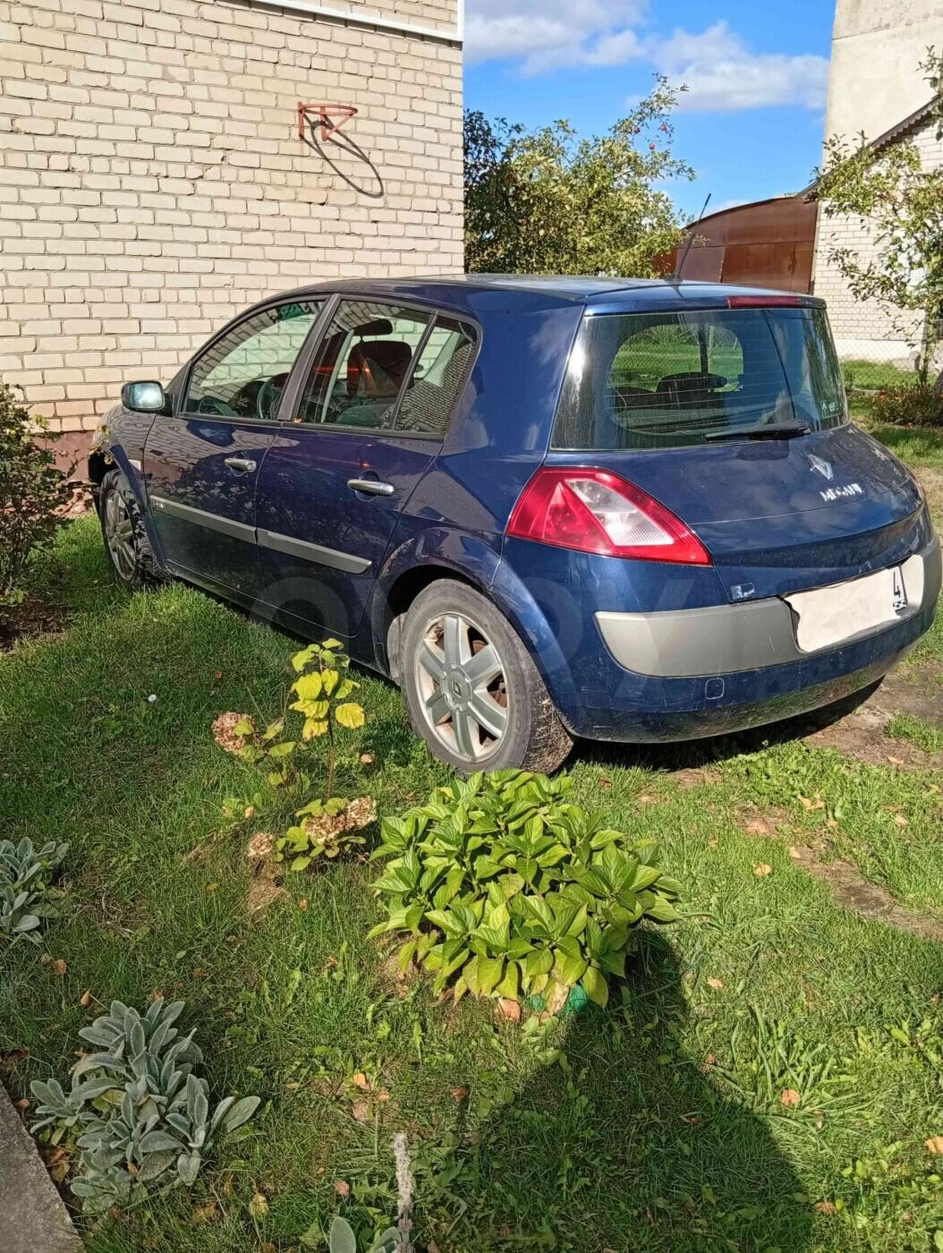Megane_2002-2006: (84, 263, 943, 795)
